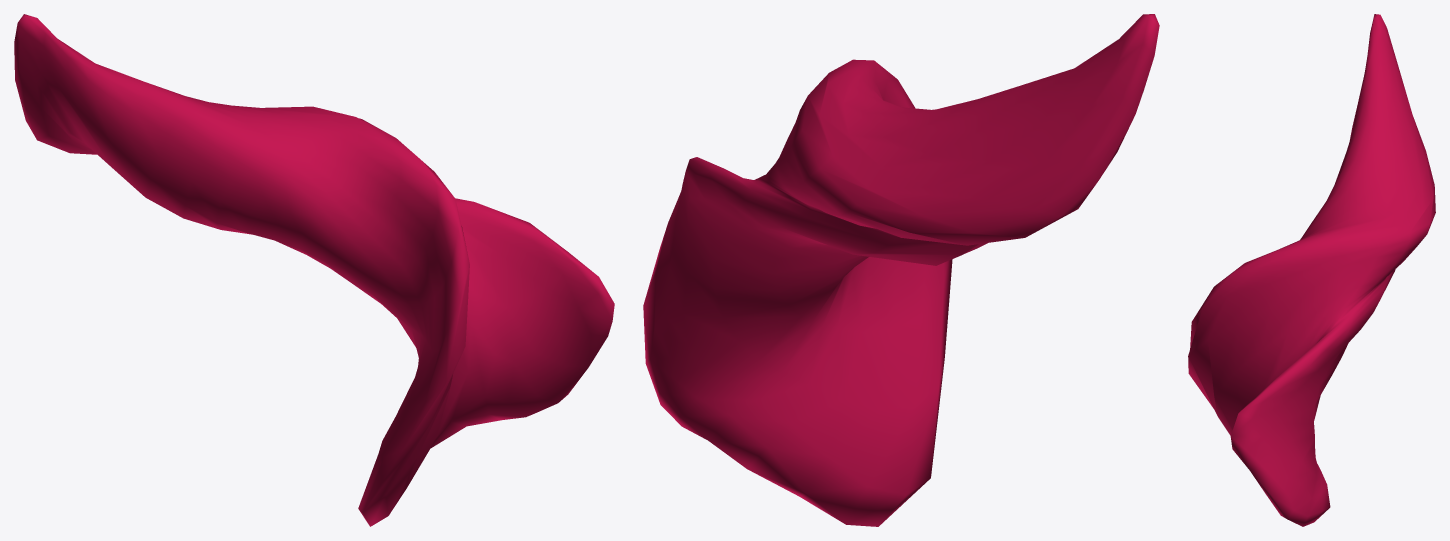
Rendered from Fluid.glb.
3 views of the same model, side by side, from view 1: azimuth 30°, elevation 25°; view 2: azimuth 150°, elevation 25°; view 3: azimuth 270°, elevation 25° (orthographic). The views are drawn at different scales.
Visible parts, largest first — view 1: Fluid.001; view 2: Fluid.001; view 3: Fluid.001.
Boxes of the visible parts, <box> form: Fluid.001: <box>14,14,614,526</box>; Fluid.001: <box>643,14,1159,526</box>; Fluid.001: <box>1188,14,1435,526</box>.
Bounding box in the file's own units: 3.01 × 3.08 × 1.75.
